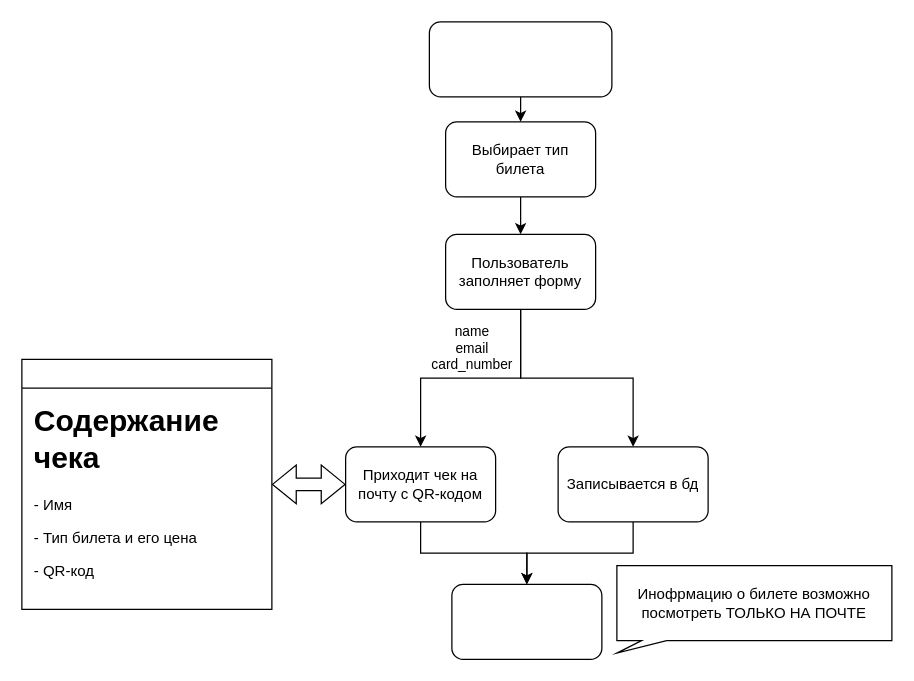
Image size: 914x681. Some labels were removed from this diagram. The box of each missing label's shape, as (x1, y1, x2, y2) in pixels:
Vertical Container: (21, 358, 272, 609)
Пользователь нажимает "Заказать билет": (428, 21, 612, 97)
Текстовое уведомление о успешной отрпавке чека: (451, 583, 602, 659)
